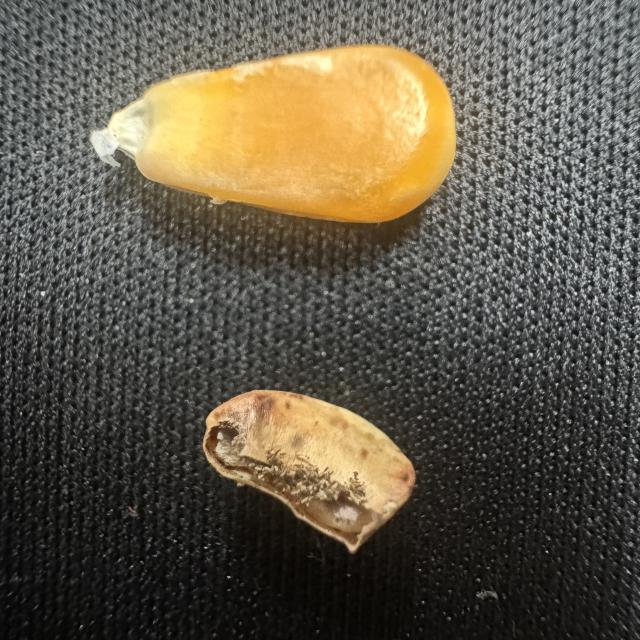Bad-Seed: (176, 383, 429, 568)
Good-Seed: (74, 31, 468, 250)
